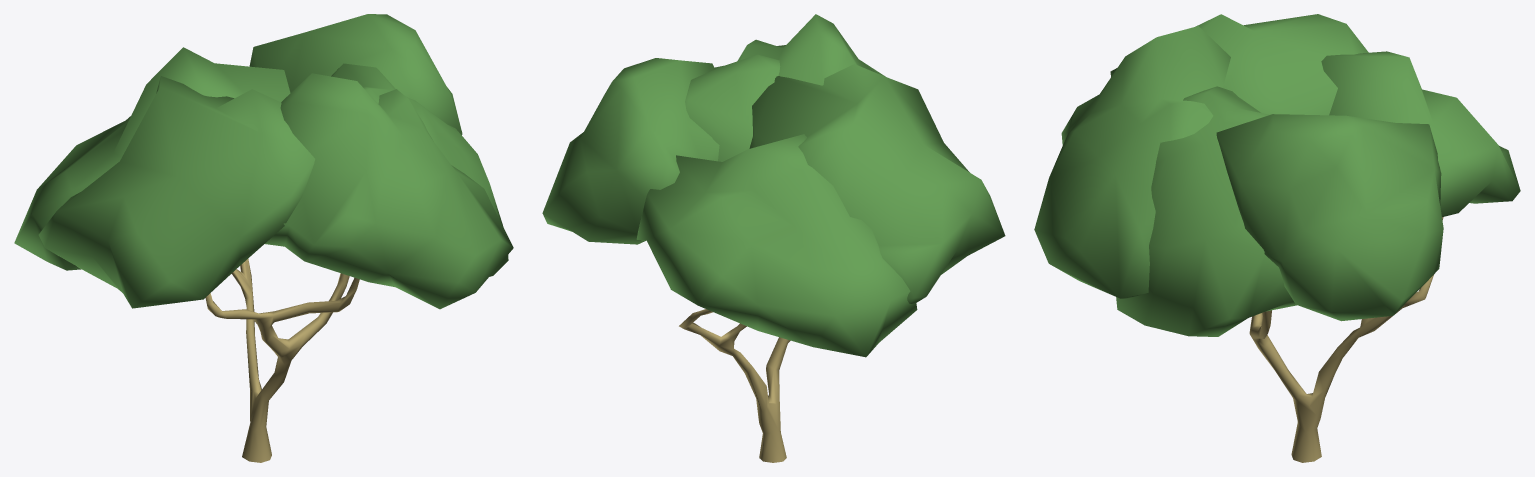
The model's file is tree-transformed.glb.
3 renders of one model, left to right at view 1: azimuth 30°, elevation 25°; view 2: azimuth 150°, elevation 25°; view 3: azimuth 270°, elevation 25°, orthographic. The views are drawn at different scales.
Parts seen in each view (by area): view 1: Cube.407; view 2: Cube.407; view 3: Cube.407.
Boxes of the visible parts, <box> form: Cube.407: <box>14,14,513,462</box>; Cube.407: <box>542,14,1005,462</box>; Cube.407: <box>1034,14,1520,462</box>.
Size of the model in its own units: 7.12 by 7.14 by 7.27.
1 material, 1 textured.
